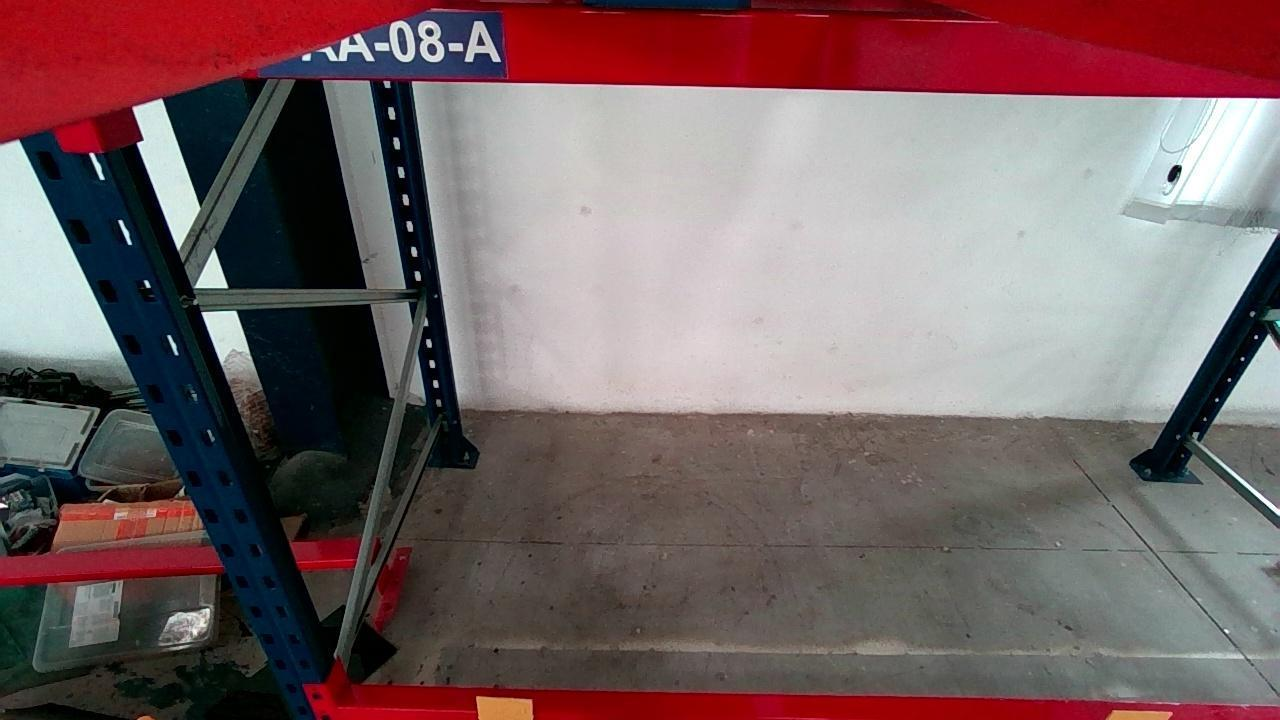h_rack: (246, 9, 1278, 97)
